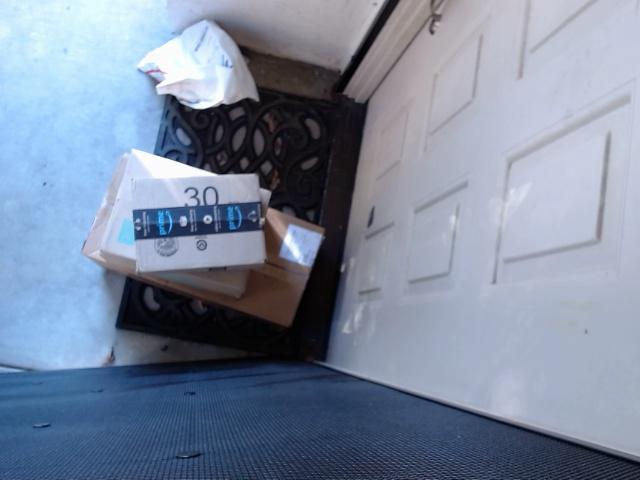box: (80, 132, 330, 334), (109, 143, 276, 305), (128, 171, 275, 281)
plastic_bag: (131, 5, 283, 111)
